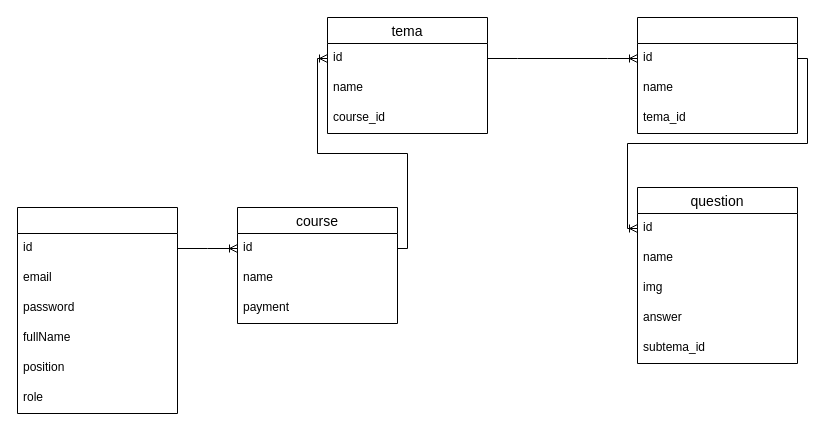
The diagram is 833 pixels wide and 434 high, and some of its shapes have lost their labels. Here are the shapes that lost their labels. From the top down, the box of each, then its label:
(636, 16, 798, 134): subTema
(16, 206, 178, 414): user
